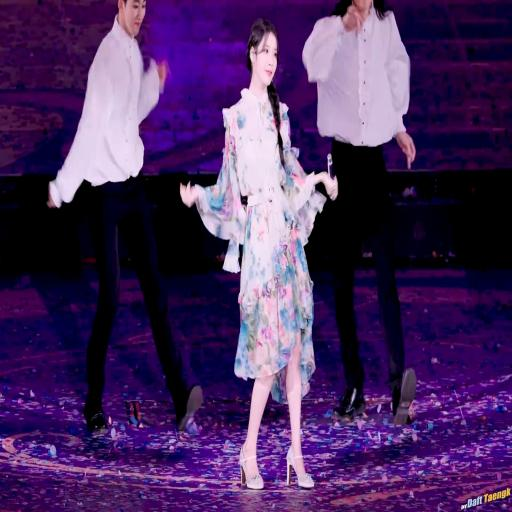IU: (250, 18, 278, 90)
